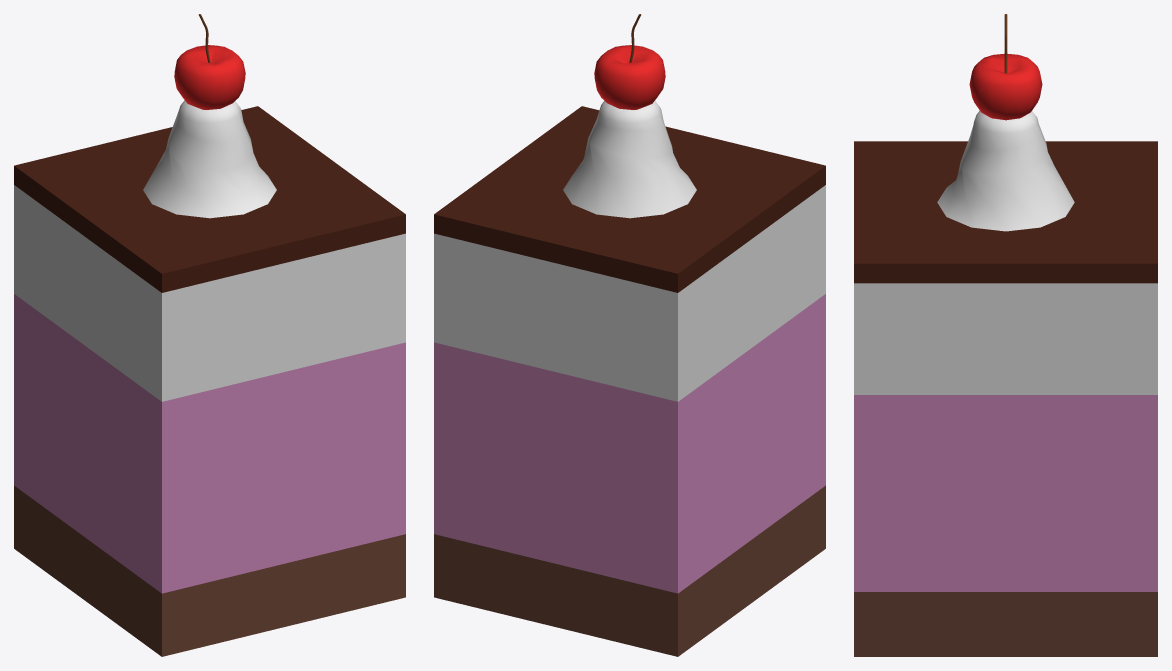
Rendered from Cake_pieces.fbx.
The picture shows the model from 3 angles, left to right: view 1: azimuth 30°, elevation 25°; view 2: azimuth 150°, elevation 25°; view 3: azimuth 270°, elevation 25°; orthographic projection. The views are drawn at different scales.
Parts seen in each view (by area): view 1: Cake_piece_top, Cake_piece_bottom; view 2: Cake_piece_top, Cake_piece_bottom; view 3: Cake_piece_top, Cake_piece_bottom.
Part boxes in pixels (box(x1,y1,x2,y2)): Cake_piece_top: box(14, 14, 405, 439); Cake_piece_bottom: box(14, 332, 405, 656); Cake_piece_top: box(434, 14, 825, 439); Cake_piece_bottom: box(434, 332, 825, 656); Cake_piece_top: box(854, 14, 1157, 433); Cake_piece_bottom: box(854, 434, 1157, 656).
Size of the model in its own units: 400 by 879 by 420.
